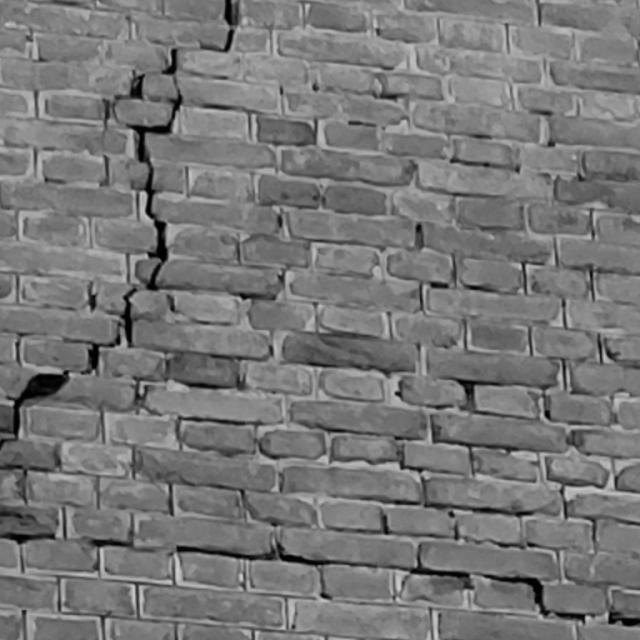crack: (1, 1, 239, 447), (1, 532, 640, 626)
